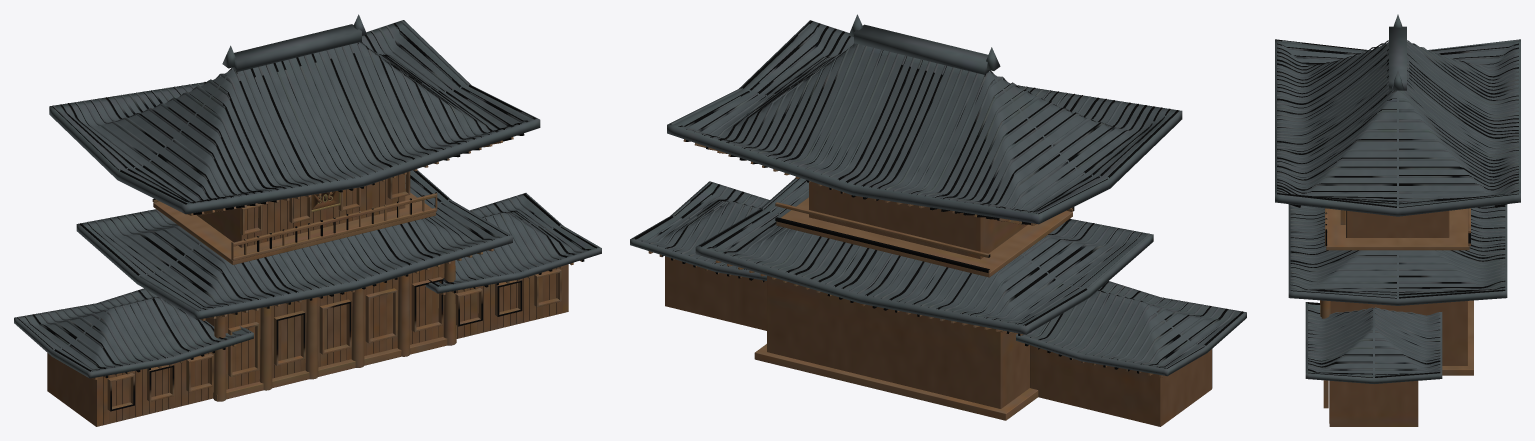
Rendered from temple-quality.glb.
3 views of the same model, side by side, from view 1: azimuth 30°, elevation 25°; view 2: azimuth 150°, elevation 25°; view 3: azimuth 270°, elevation 25° (orthographic). The views are drawn at different scales.
Parts seen in each view (by area): view 1: Temple_quality; view 2: Temple_quality; view 3: Temple_quality.
Boxes of the visible parts, left/top/right/bottom form: Temple_quality: left=14, top=14, right=601, bottom=426; Temple_quality: left=630, top=14, right=1246, bottom=426; Temple_quality: left=1275, top=14, right=1520, bottom=426.
Bounding box in the file's own units: 31.2 × 18.17 × 14.4.
Materials: 5 (5 with a texture image).
